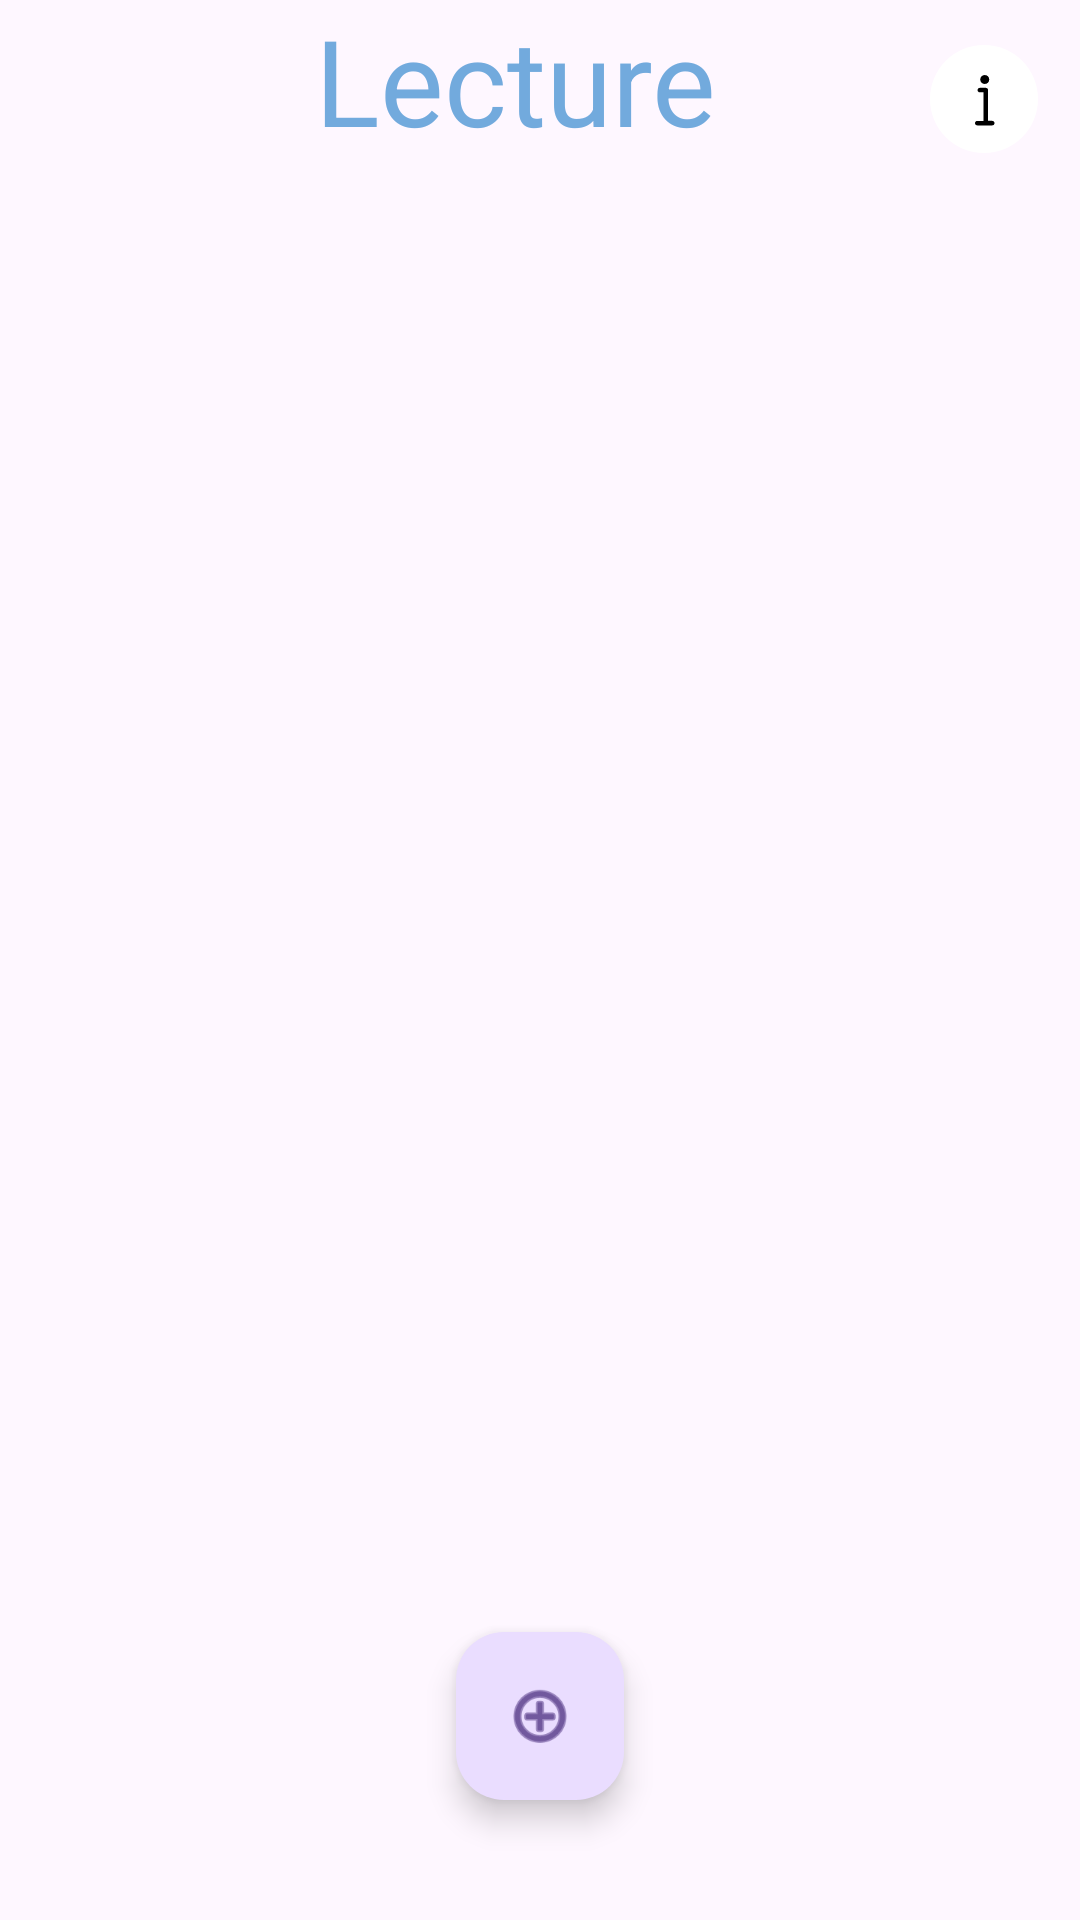

Where icons sit on this 1080w x 1920h app screen, as Rect(x1, y1, x2, y2):
add: Rect(456, 1632, 624, 1800)
info: Rect(975, 75, 995, 126)
